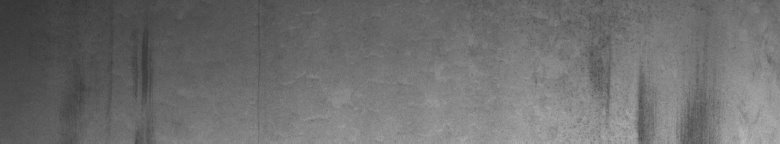ka: (584, 52, 692, 136)
